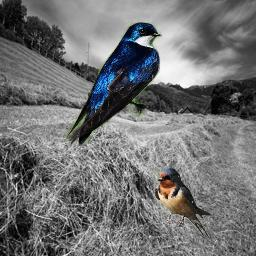Swallow: (65, 22, 162, 146), (153, 167, 210, 239)
